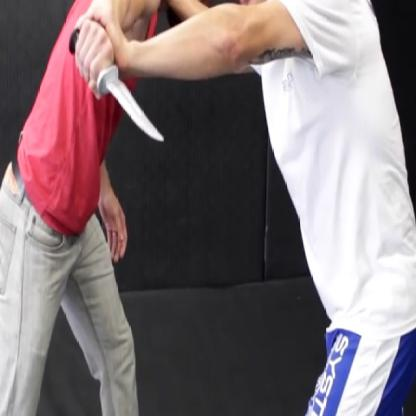knife: (66, 16, 172, 161)
